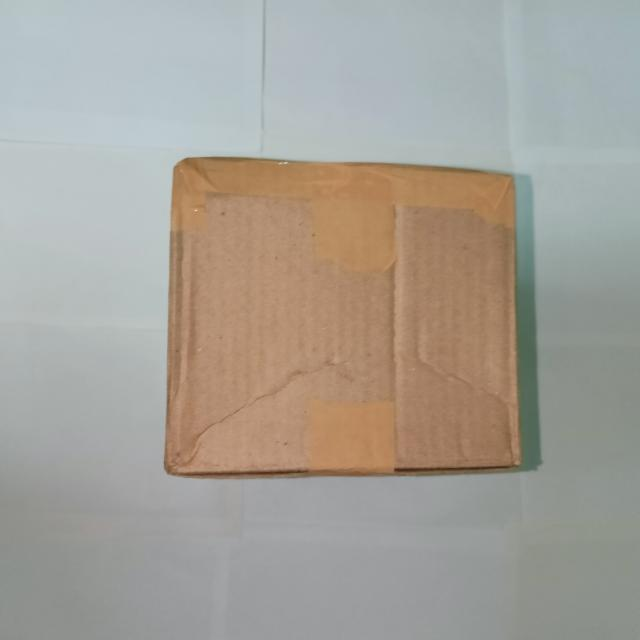box: (173, 162, 526, 476)
